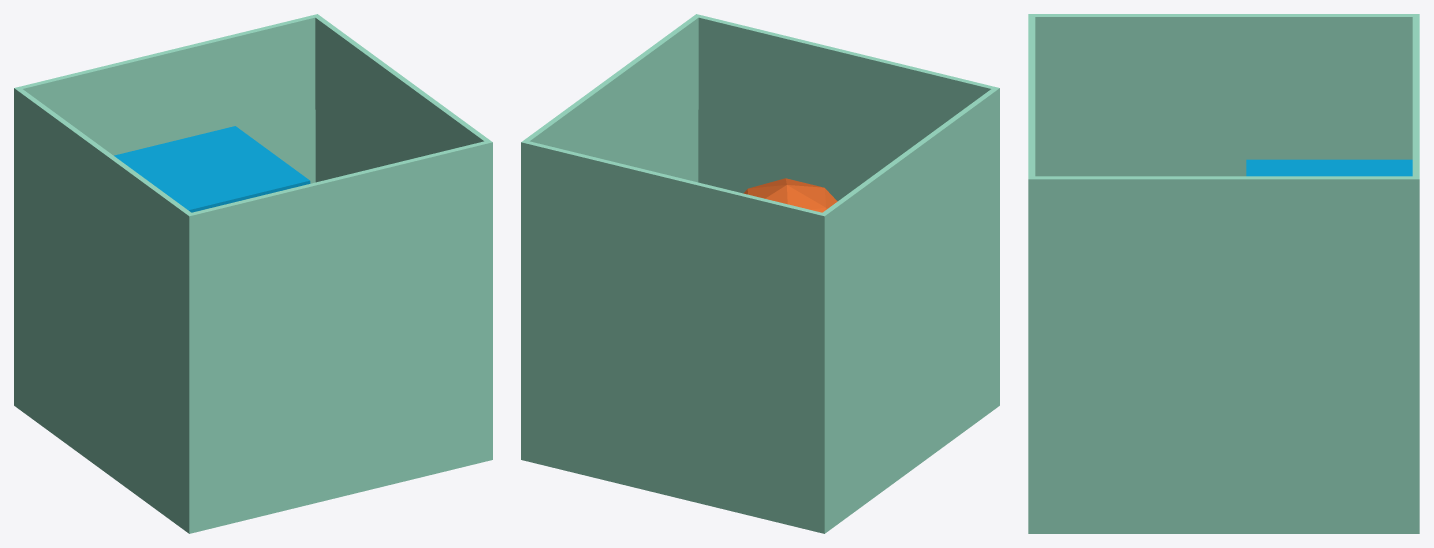
The model's file is room_animated_2.gltf.
3 renders of one model, left to right at view 1: azimuth 30°, elevation 25°; view 2: azimuth 150°, elevation 25°; view 3: azimuth 270°, elevation 25°, orthographic. The views are drawn at different scales.
Parts seen in each view (by area): view 1: Cube.001, Cube; view 2: Cube.001, Icosphere; view 3: Cube.001, Cube.
Part boxes in pixels (x1,y1,x2,y2): Cube.001: (14,14,492,533); Cube: (114,126,310,212); Cube.001: (521,14,999,533); Icosphere: (743,178,837,212); Cube.001: (1028,14,1419,533); Cube: (1246,159,1412,176).
Size of the model in its own units: 16.94 by 16.94 by 16.94.
